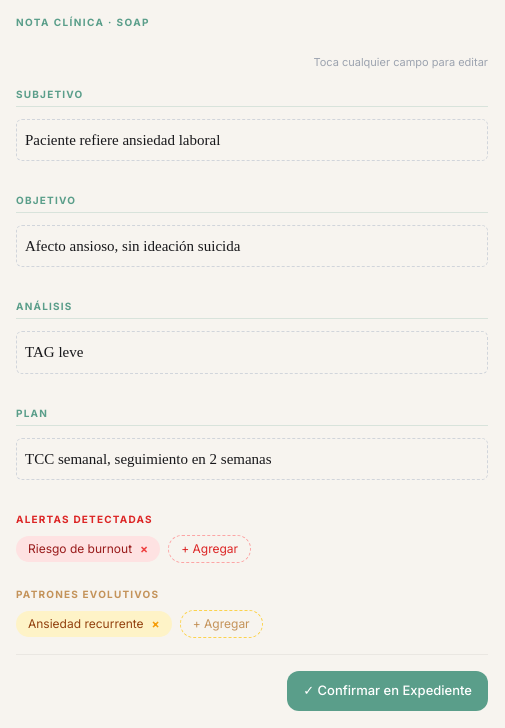
Test: SoapNoteDocument › botón × elimina una alerta
The image size is (505, 728).
What coordinates should you click on to do the following:
click the button named "Eliminar alerta"
I would click on:
 (144, 549)
Its box is [140,543,148,555].
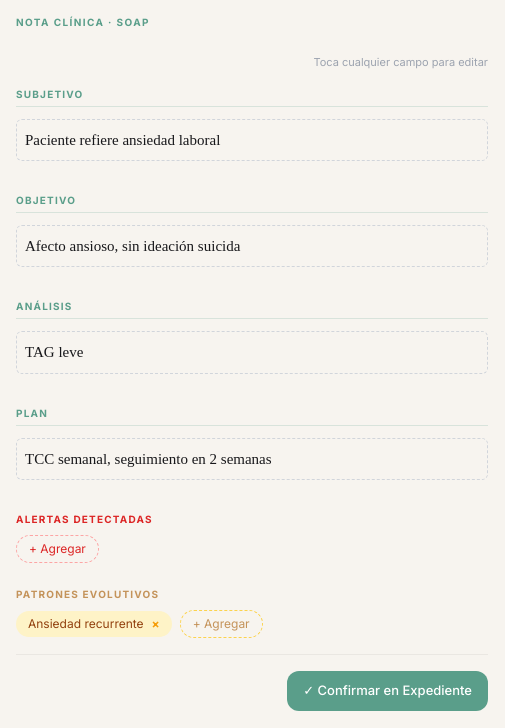
Expected: the text "Riesgo de burnout" is gone
